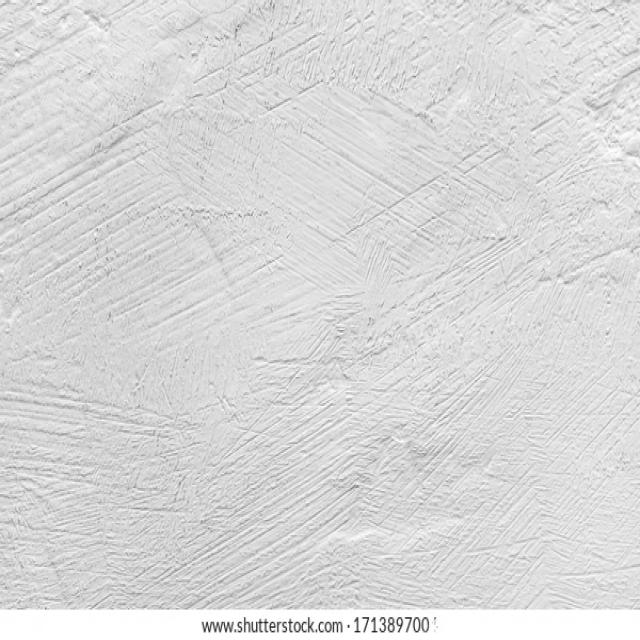rough and patchy surface: (0, 0, 637, 608)
trowels marks: (0, 0, 640, 609)
